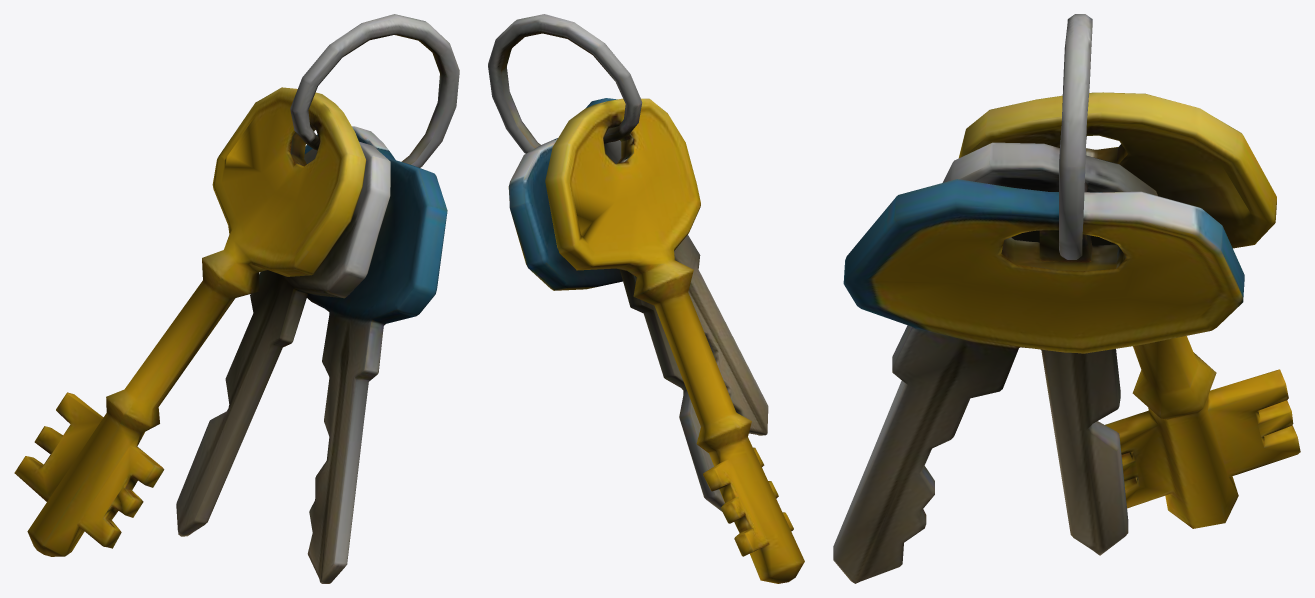
3 views of the same model, side by side, from view 1: azimuth 30°, elevation 25°; view 2: azimuth 150°, elevation 25°; view 3: azimuth 270°, elevation 25° (orthographic). The views are drawn at different scales.
Visible parts, largest first — view 1: mesh_rep_0_ori_repair_quad; view 2: mesh_rep_0_ori_repair_quad; view 3: mesh_rep_0_ori_repair_quad.
Part boxes in pixels (x1,y1,x2,y2): mesh_rep_0_ori_repair_quad: (14, 14, 459, 583); mesh_rep_0_ori_repair_quad: (488, 14, 804, 583); mesh_rep_0_ori_repair_quad: (833, 14, 1300, 583).
Bounding box in the file's own units: 0.7373 × 0.9297 × 0.5756.
Materials: 1 (1 with a texture image).
